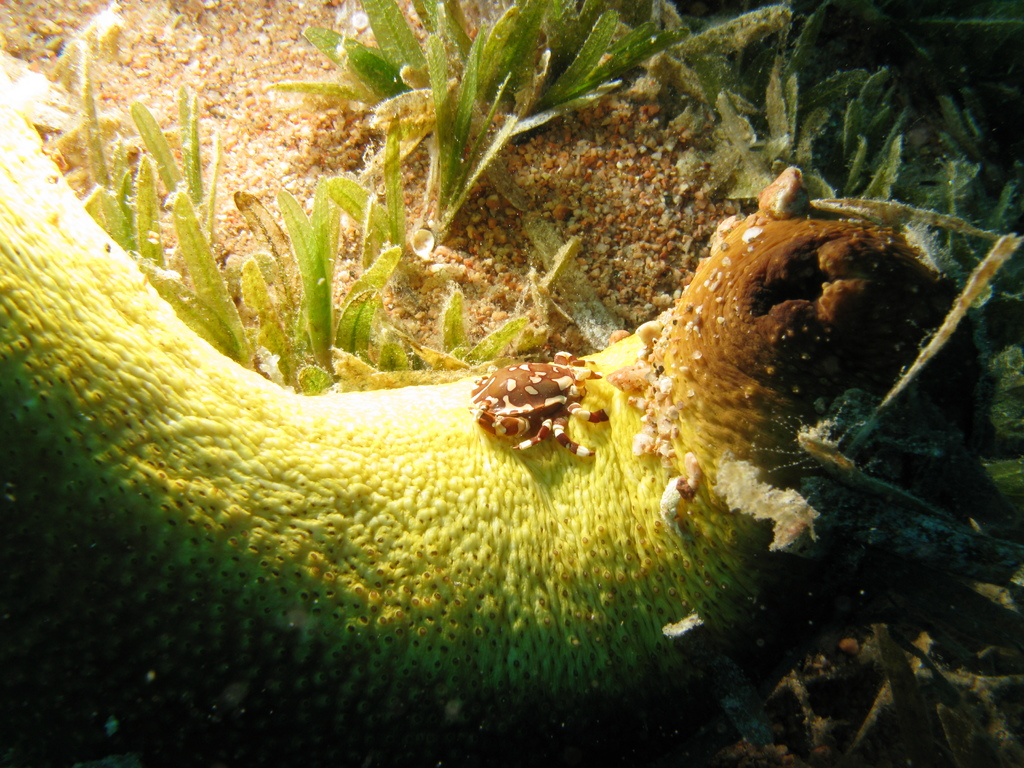Animal: (0, 79, 978, 712)
